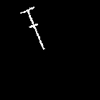double_crochet: (21, 7, 43, 48)
